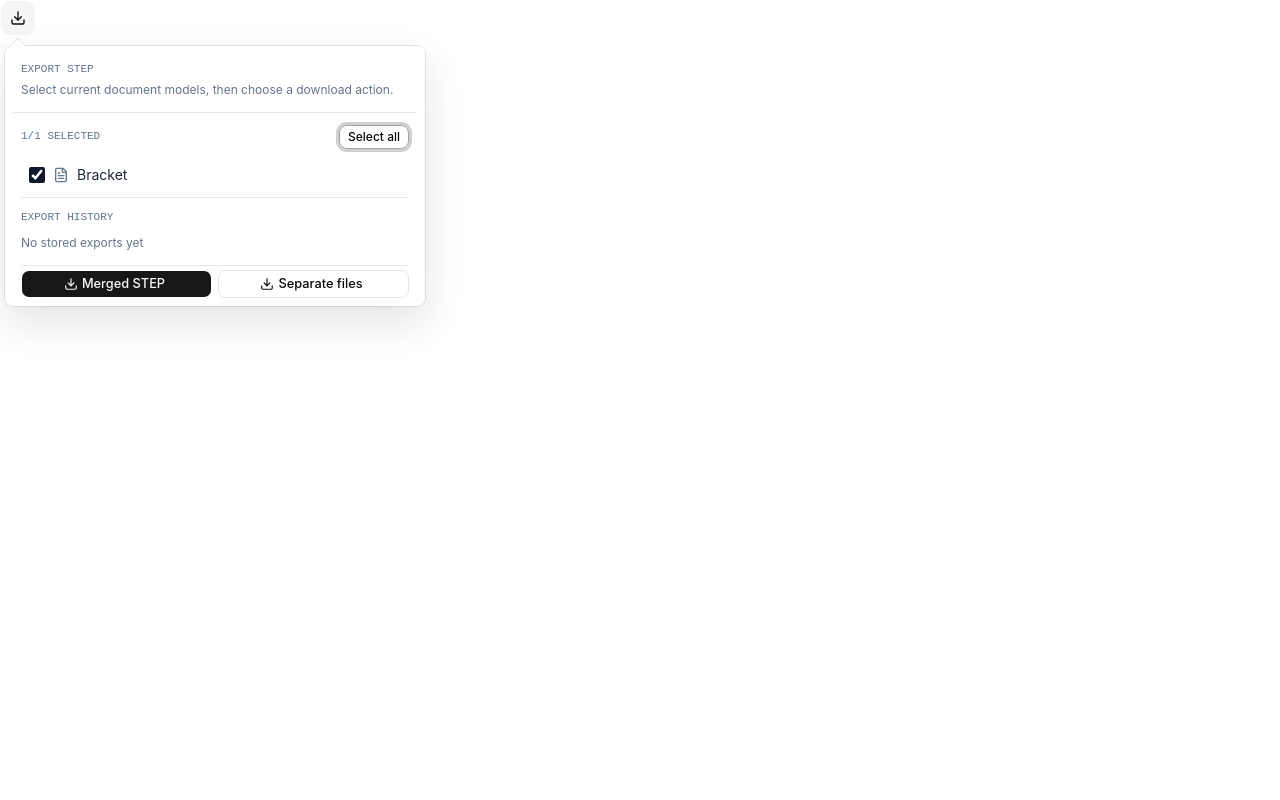
Test: ProjectStepExportPopover › stays open and renders durable feedback when export fails
The width and height of the screenshot is (1280, 800).
Click the button "Merged STEP" at [116, 284], box [21,270,212,298]
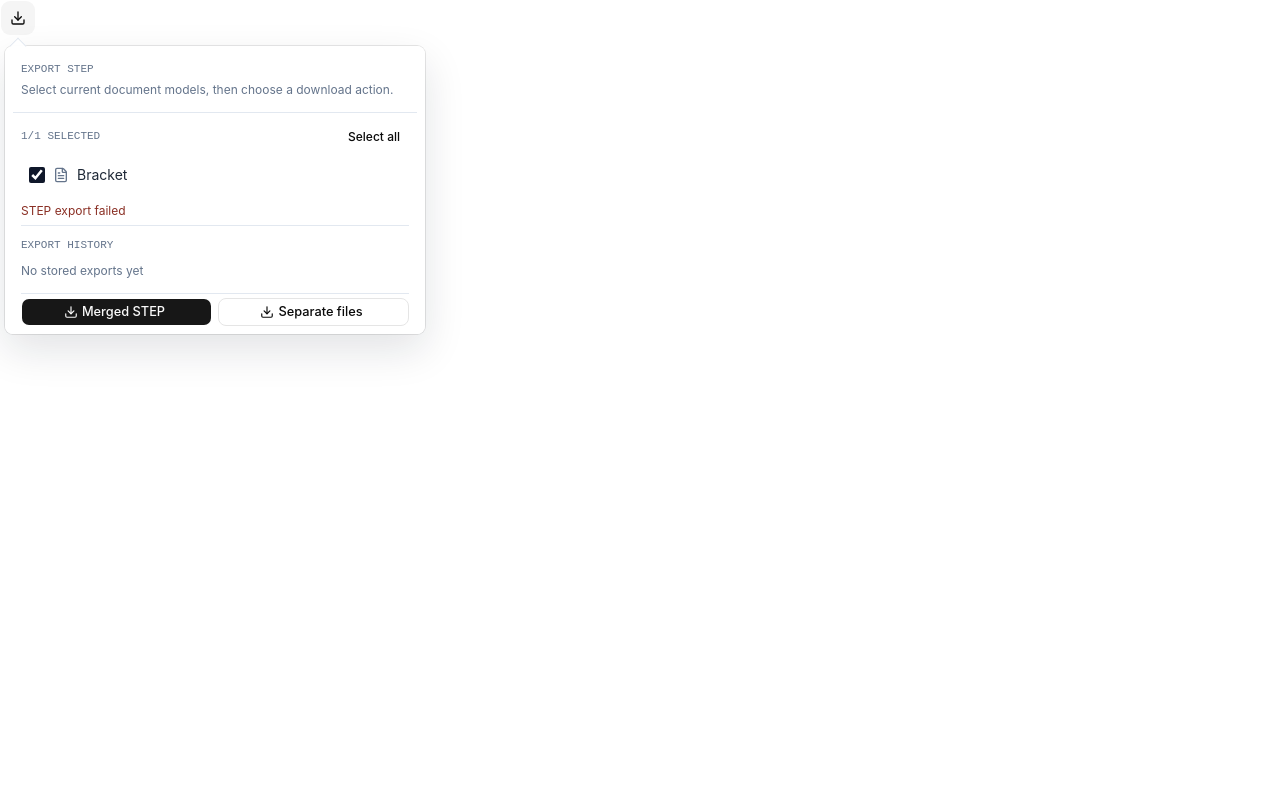
Expected: the dialog "Export STEP" is shown, [5,46,425,334]
Expected: the text "STEP export failed" is shown, [21,203,126,218]
